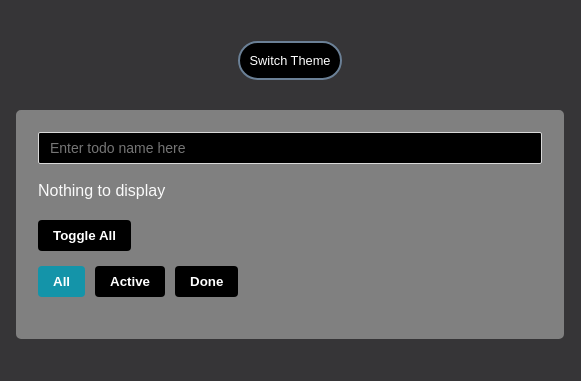
Test: Click Active
In the field with placeholder "Enter todo name here": (290, 148) [38,132,542,164], type "todo1"
Press Enter in the field with placeholder "Enter todo name here", box [38,132,542,164]
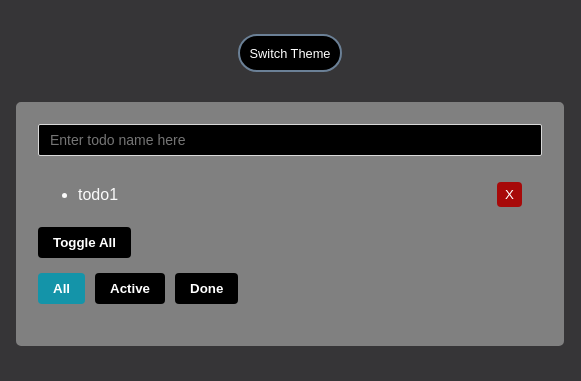
In the field with placeholder "Enter todo name here": (290, 140) [38,124,542,156], type "todo2"
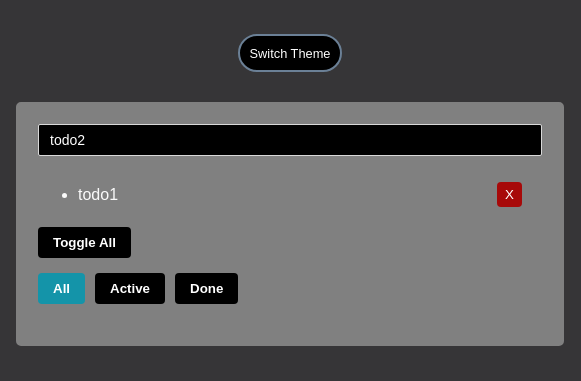
Press Enter in the field with placeholder "Enter todo name here", box [38,124,542,156]
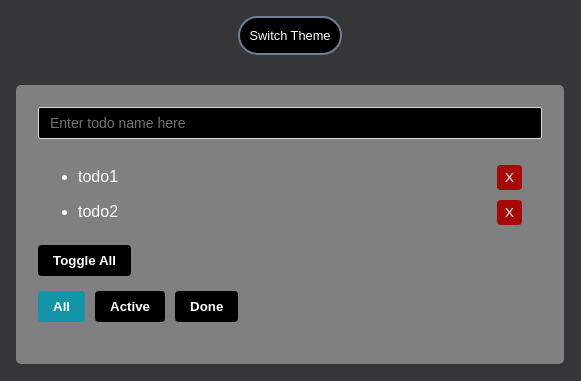
Click the text "todo1": (98, 177) [78,168,118,186]
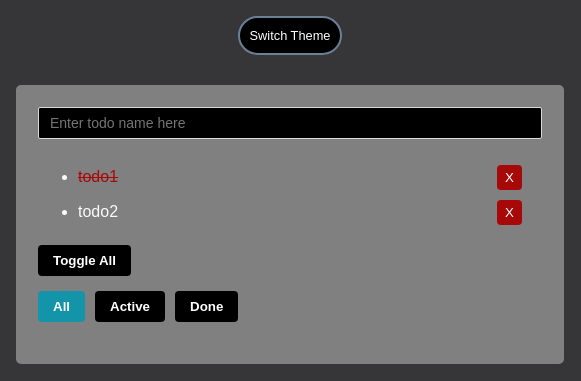
Click the button "Active": (130, 306) [95,291,165,322]
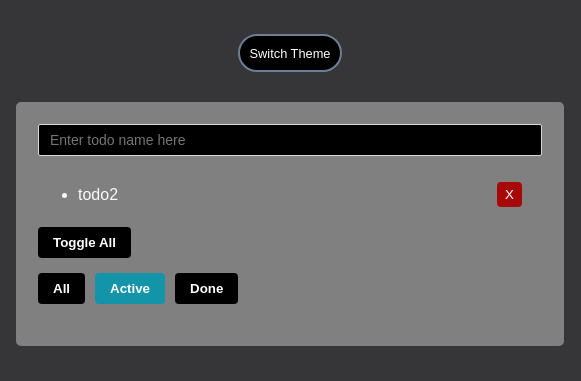
Expected: the text "todo2" is shown, [78,186,118,204]
Expected: the text "todo1" is gone
Click the button "All": (62, 289) [38,273,85,304]
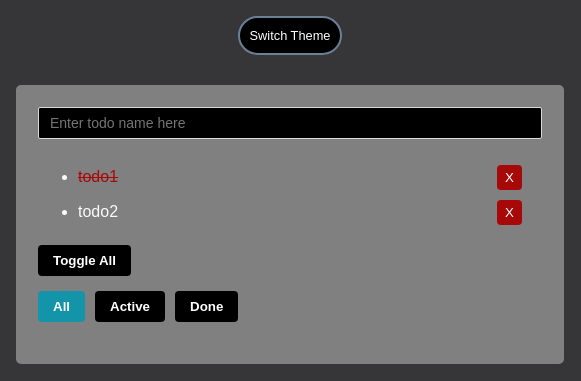
Expected: the text "todo2" is shown, [78,203,118,221]
Expected: the text "todo1" is shown, [78,168,118,186]
